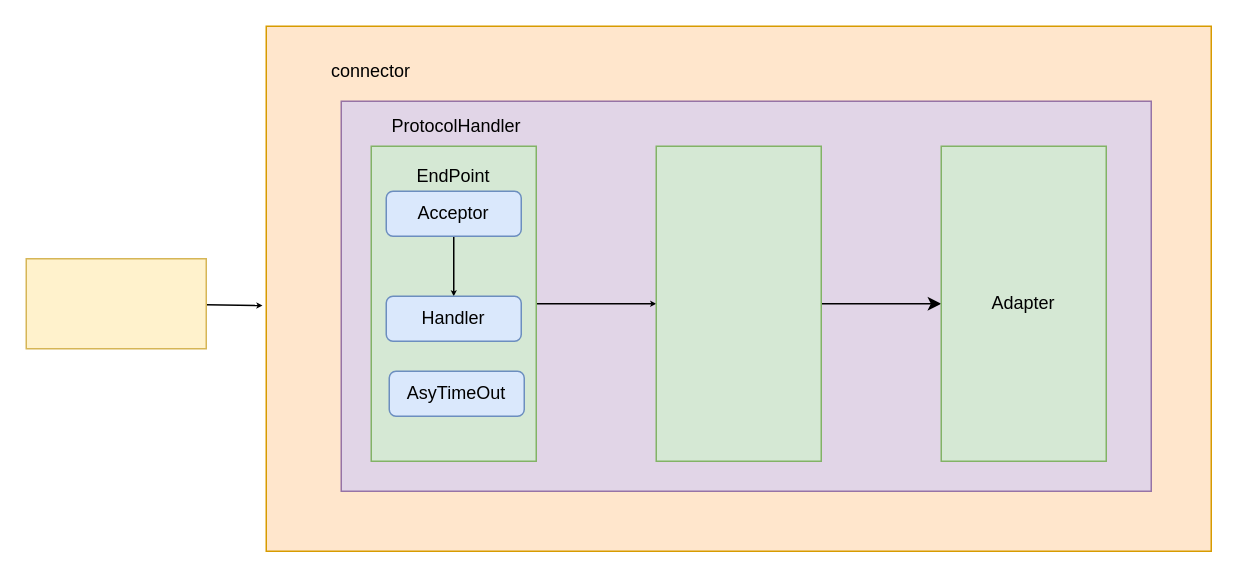
Some shapes in this 1238 by 578 pixel diagram are drawn without their labels. The centre of each missing label's shape, as x and y in pixels:
Processor: [738,303]
请求: [115,303]
